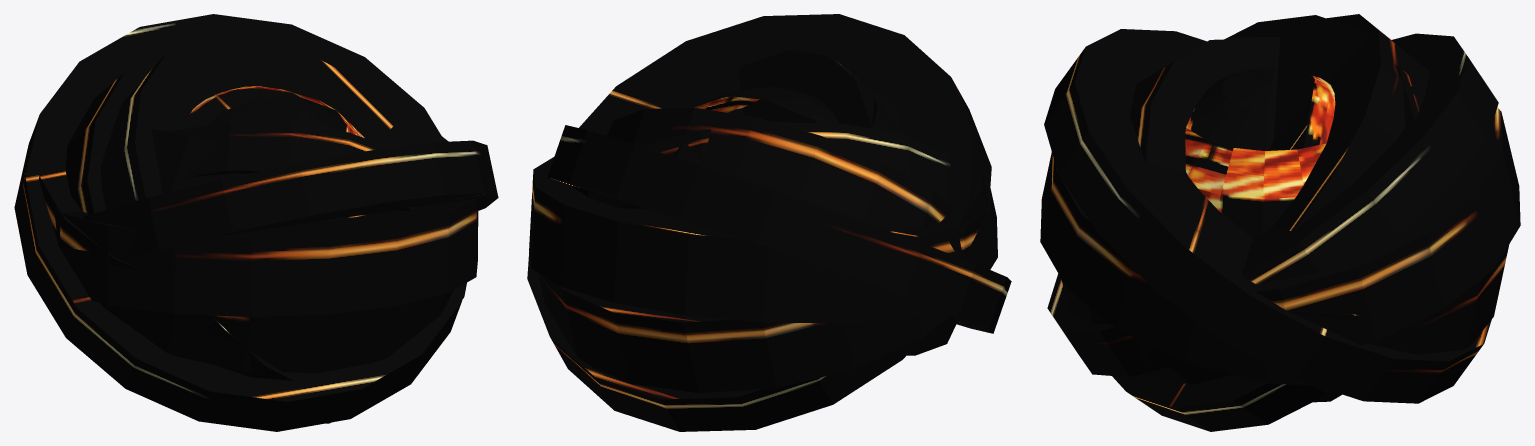
The model's file is frame_095.obj.
The picture shows the model from 3 angles, left to right: view 1: azimuth 30°, elevation 25°; view 2: azimuth 150°, elevation 25°; view 3: azimuth 270°, elevation 25°; orthographic projection. The views are drawn at different scales.
Visible parts, largest first — view 1: cylinder, sphere; view 2: cylinder, sphere; view 3: cylinder, sphere.
Boxes of the visible parts, left/top/right/bottom form: cylinder: left=14, top=14, right=498, bottom=431; sphere: left=188, top=86, right=364, bottom=137; cylinder: left=527, top=14, right=1011, bottom=431; sphere: left=694, top=87, right=838, bottom=123; cylinder: left=1040, top=14, right=1520, bottom=431; sphere: left=1185, top=67, right=1335, bottom=238.
Size of the model in its own units: 1.12 by 0.8038 by 1.04.
5 materials, 5 textured.
